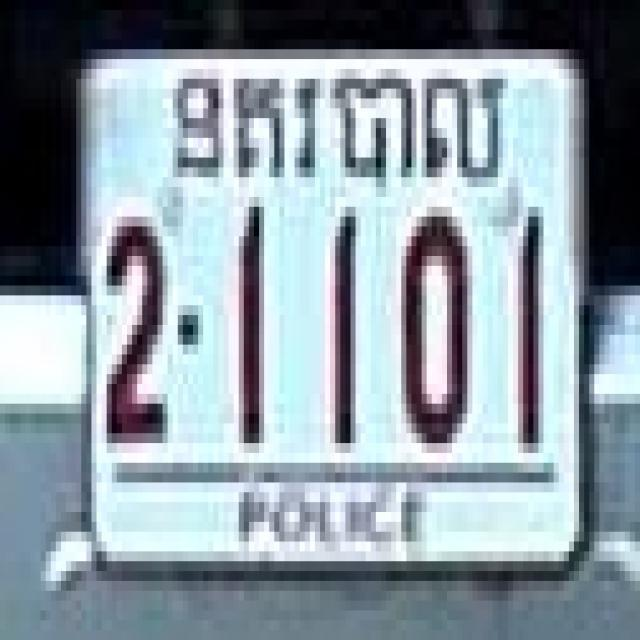Police: (168, 69, 507, 185)
